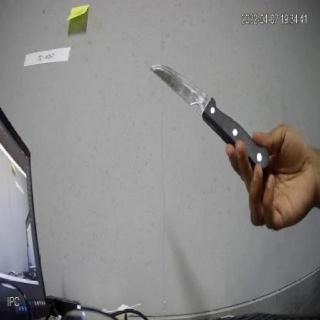knife: (146, 64, 273, 173)
